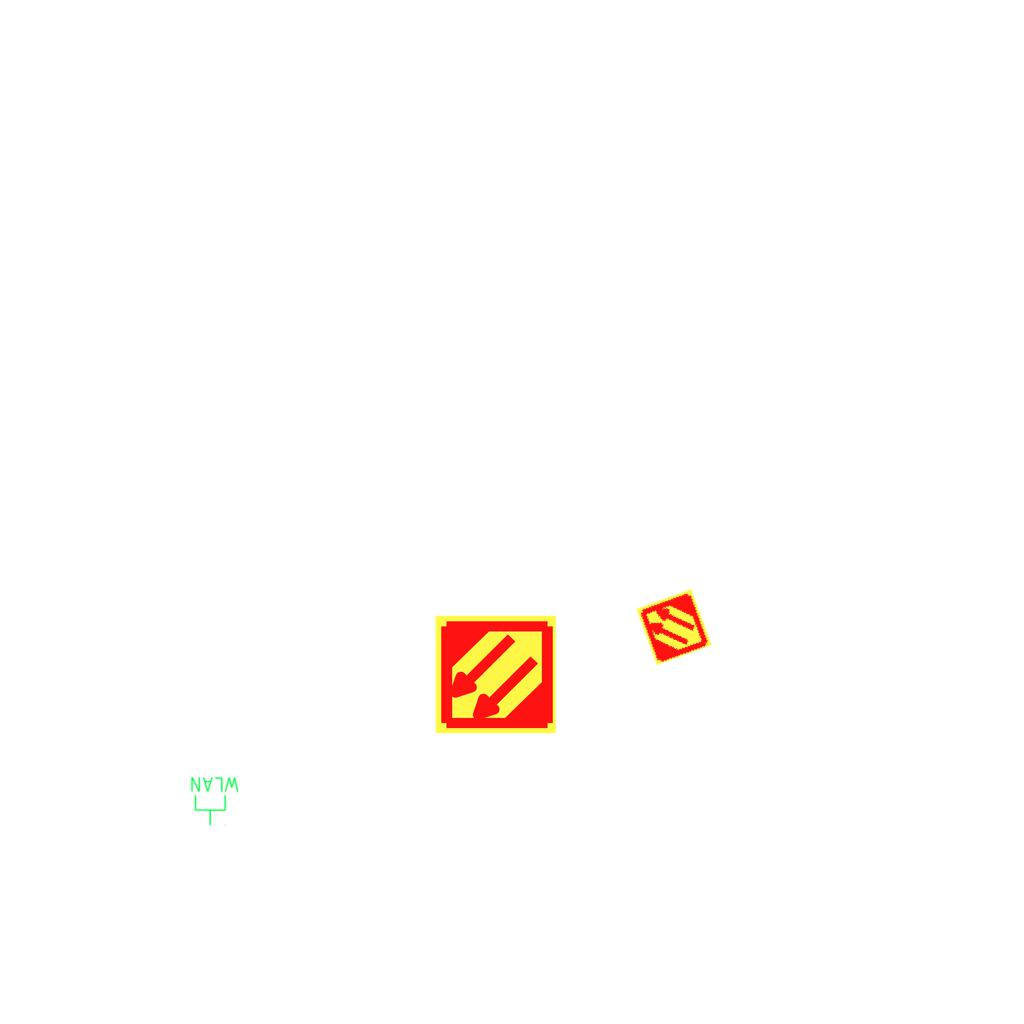ASR_Ansaugrauchmelder: (433, 612, 558, 737), (634, 587, 714, 667)
WLAN: (189, 775, 241, 827)
